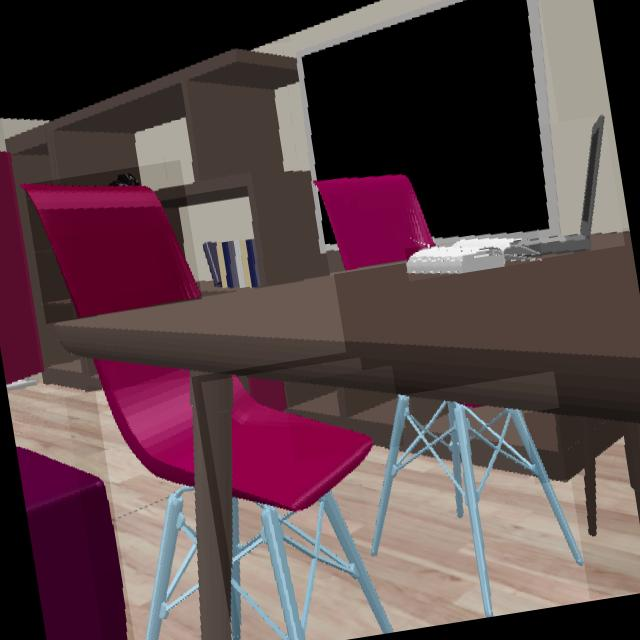book: (407, 232, 542, 275)
bookshelf: (6, 49, 325, 393), (283, 383, 398, 448), (525, 412, 582, 479)
chair: (372, 396, 584, 617), (232, 378, 396, 640), (96, 361, 201, 640), (25, 185, 202, 319), (315, 177, 435, 273)
laptop: (525, 115, 606, 256)
monitor: (296, 0, 560, 240)
sofa: (16, 448, 129, 640)
table: (55, 232, 640, 640)
